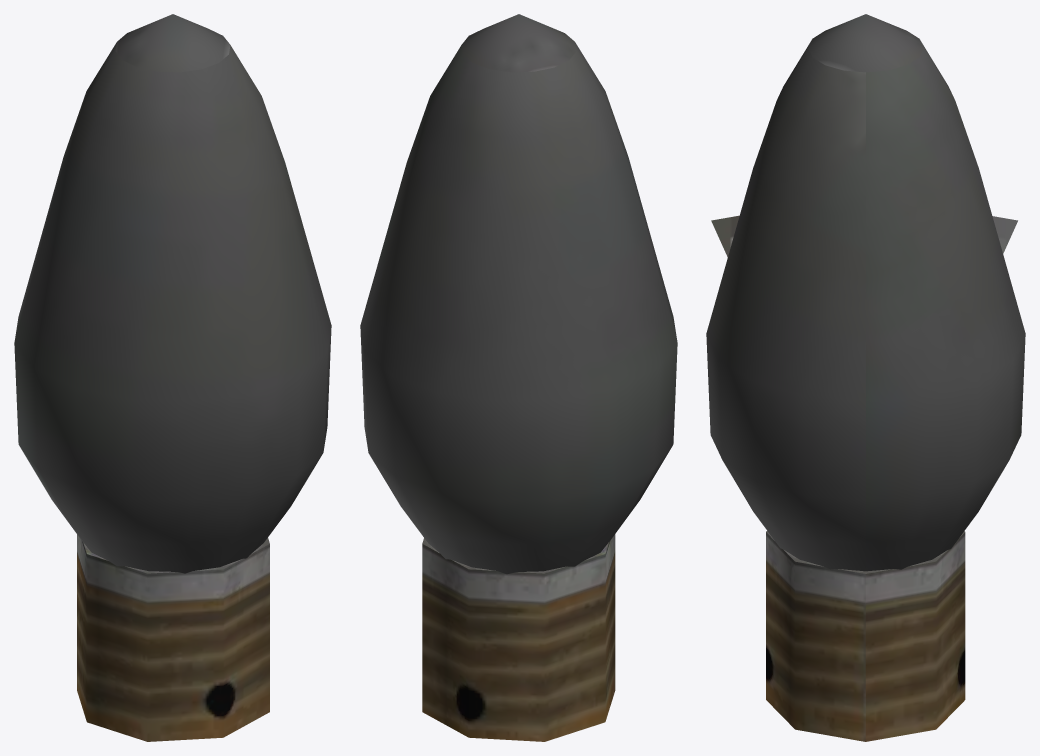
File: dlc_bulb_candle.glb
3 views of the same model, side by side, from view 1: azimuth 30°, elevation 25°; view 2: azimuth 150°, elevation 25°; view 3: azimuth 270°, elevation 25° (orthographic).
Visible parts, largest first — view 1: dlc_bulb_candle_lod0; view 2: dlc_bulb_candle_lod0; view 3: dlc_bulb_candle_lod0.
Part boxes in pixels (x1,y1,x2,y2): dlc_bulb_candle_lod0: (14,14,331,741); dlc_bulb_candle_lod0: (360,14,677,741); dlc_bulb_candle_lod0: (706,14,1025,741).
Size of the model in its own units: 0.0886 by 0.2187 by 0.0886.
1 material, 1 textured.
